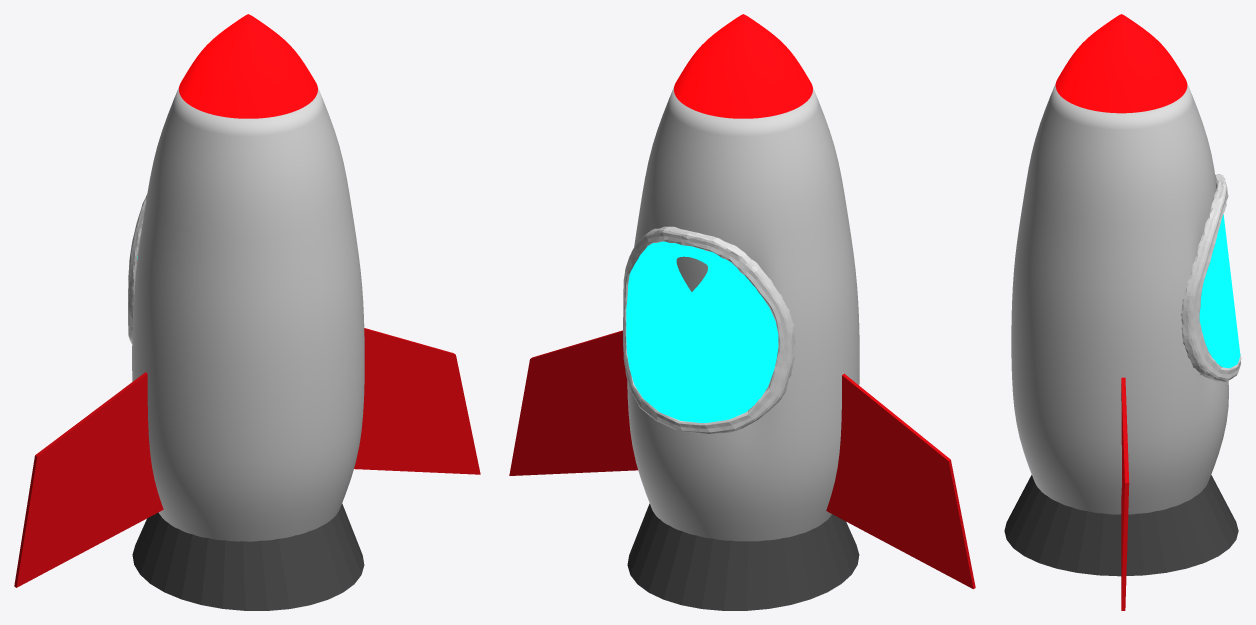
Rendered from ロケット.fbx.
3 renders of one model, left to right at view 1: azimuth 30°, elevation 25°; view 2: azimuth 150°, elevation 25°; view 3: azimuth 270°, elevation 25°, orthographic. The views are drawn at different scales.
Parts seen in each view (by area): view 1: 円.001, 立方体, 円, 円.002, 円.003; view 2: 円.001, 立方体, 円.004, 円, 円.002, 円.003; view 3: 円.001, 円, 円.002, 円.003, 円.004, 立方体.
Part boxes in pixels (left/top/right/bottom): 円.001: left=132, top=87, right=364, bottom=541; 立方体: left=14, top=328, right=480, bottom=587; 円: left=132, top=503, right=364, bottom=610; 円.002: left=179, top=14, right=317, bottom=118; 円.003: left=128, top=194, right=147, bottom=343; 円.001: left=627, top=87, right=859, bottom=541; 立方体: left=509, top=330, right=975, bottom=589; 円.004: left=626, top=241, right=778, bottom=422; 円: left=627, top=503, right=859, bottom=610; 円.002: left=674, top=14, right=812, bottom=118; 円.003: left=623, top=226, right=795, bottom=433; 円.001: left=1011, top=83, right=1228, bottom=514; 円: left=1004, top=475, right=1238, bottom=576; 円.002: left=1055, top=14, right=1187, bottom=113; 円.003: left=1180, top=174, right=1241, bottom=381; 円.004: left=1199, top=214, right=1240, bottom=368; 立方体: left=1121, top=377, right=1129, bottom=610.
Bounding box in the file's own units: 719 × 809 × 336.
